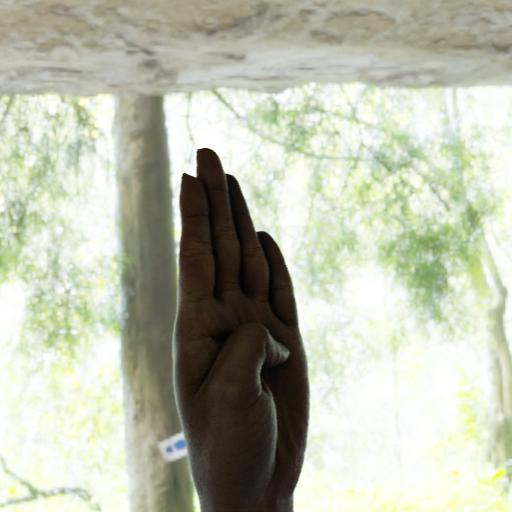B: (159, 143, 311, 490)
